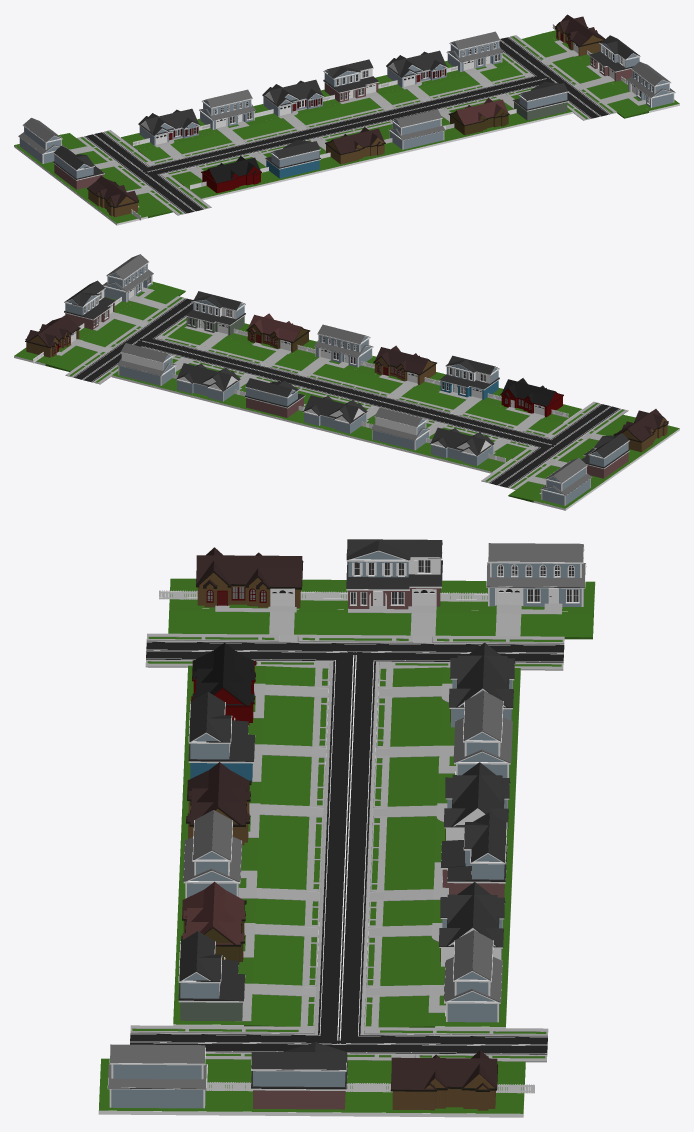
Rendered from city_lev3.glb.
3 renders of one model, top to bottom at view 1: azimuth 30°, elevation 25°; view 2: azimuth 150°, elevation 25°; view 3: azimuth 270°, elevation 25°, orthographic. The views are drawn at different scales.
Parts seen in each view (by area): view 1: Object_30, Object_55, Object_46, Object_56, Object_29, Object_12, Object_48, Object_22, Object_27, Object_26, Object_23, Object_25 (+20 smaller); view 2: Object_30, Object_55, Object_46, Object_56, Object_29, Object_12, Object_48, Object_22, Object_25, Object_26, Object_27, Object_23 (+18 smaller); view 3: Object_30, Object_55, Object_56, Object_29, Object_12, Object_48, Object_46, Object_22, Object_26, Object_27, Object_25, Object_23 (+17 smaller).
Part boxes in pixels (x1,y1,x2,y2): Object_30: (59,32,648,218); Object_55: (84,37,609,213); Object_46: (20,41,673,178); Object_56: (53,35,639,179); Object_29: (77,35,616,214); Object_12: (14,30,679,223); Object_48: (18,31,675,153); Object_22: (87,14,605,206); Object_27: (77,36,645,192); Object_26: (70,37,586,215); Object_23: (88,24,603,217); Object_25: (151,40,616,202); Object_30: (45,283,635,502); Object_55: (73,298,620,487); Object_46: (65,264,628,505); Object_56: (64,280,629,468); Object_29: (66,296,628,489); Object_12: (14,281,679,508); Object_48: (102,254,591,495); Object_22: (26,314,667,441); Object_25: (56,297,611,448); Object_26: (72,318,628,494); Object_27: (65,287,597,489); Object_23: (26,330,667,452); Object_30: (100,608,593,1083); Object_55: (130,641,564,1054); Object_56: (178,539,515,1089); Object_29: (130,613,564,1061); Object_12: (99,578,594,1113); Object_48: (108,543,585,1089); Object_46: (111,551,584,1108); Object_22: (187,547,497,1089); Object_26: (145,603,562,1060); Object_27: (187,614,564,1062); Object_25: (130,637,491,1055); Object_23: (188,572,495,1110).
Bounding box in the file's own units: 494 × 24.08 × 194.
